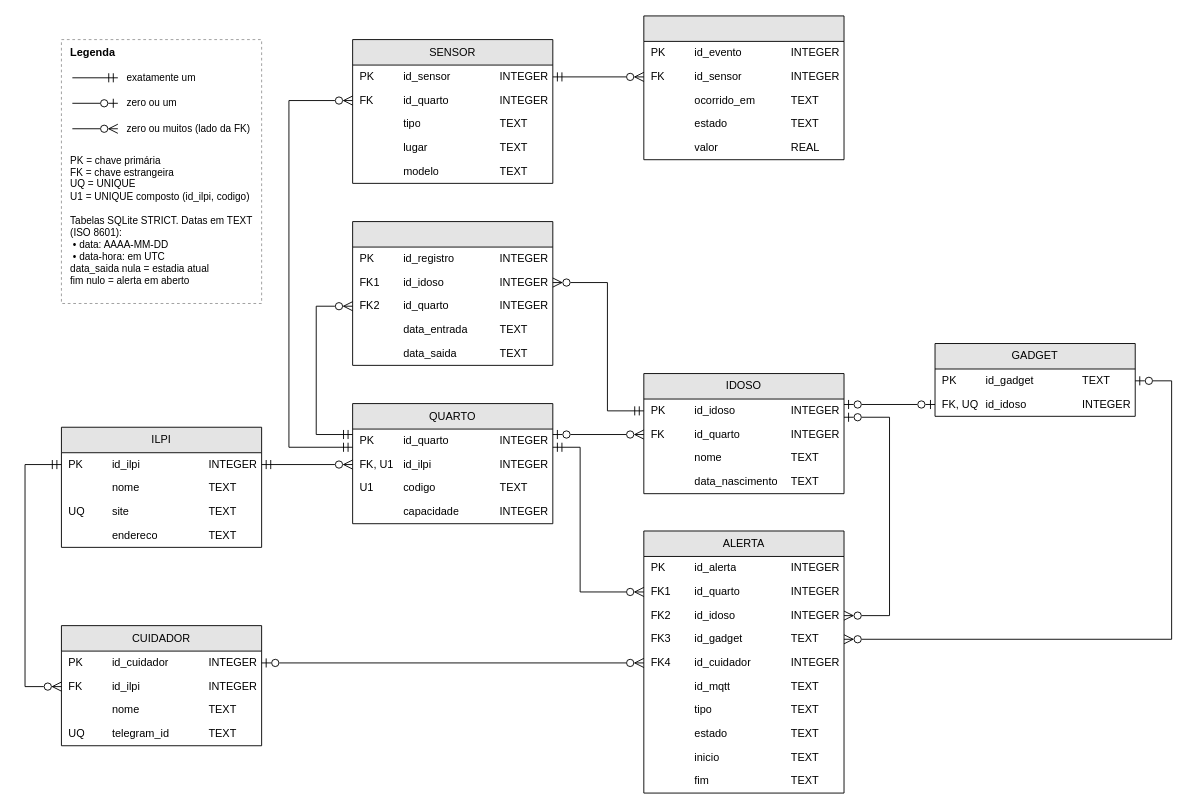
This 1198x809 diagram has some shape labels left out. The shapes that lost their labels are listed below. From the top down, each one's box as (x1, y1, x2, y2) in pixels, then its label:
(643, 15, 844, 160): EVENTO_SENSOR
(352, 221, 553, 365): HISTORICO_QUARTO
